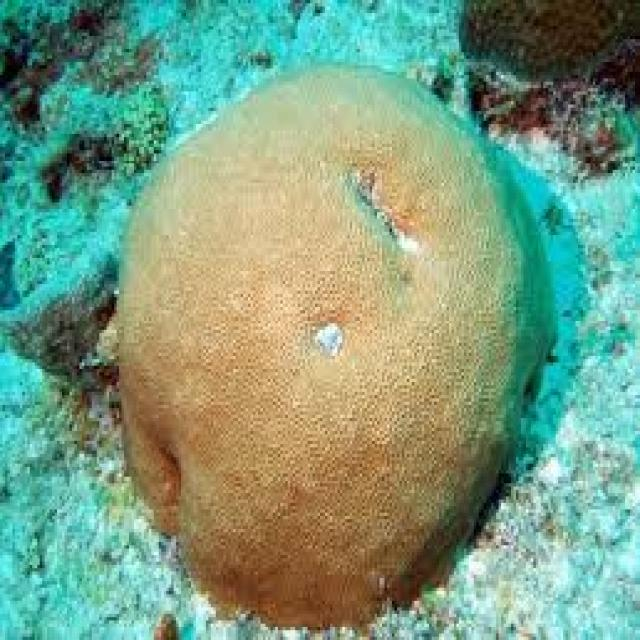Coral: (115, 60, 557, 631)
